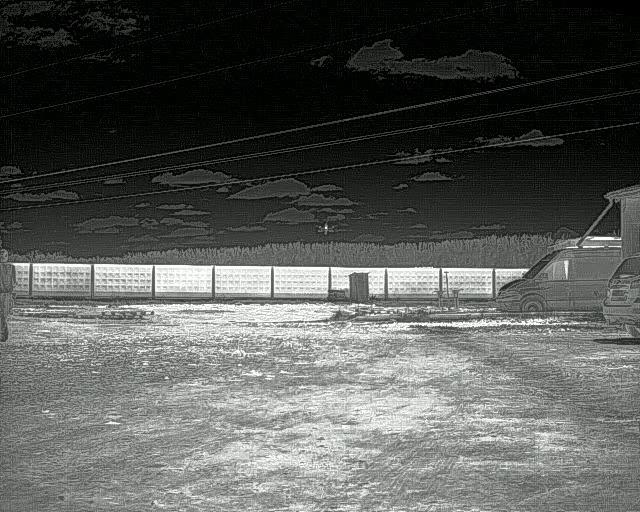drone-thermal: (316, 222, 338, 235)
